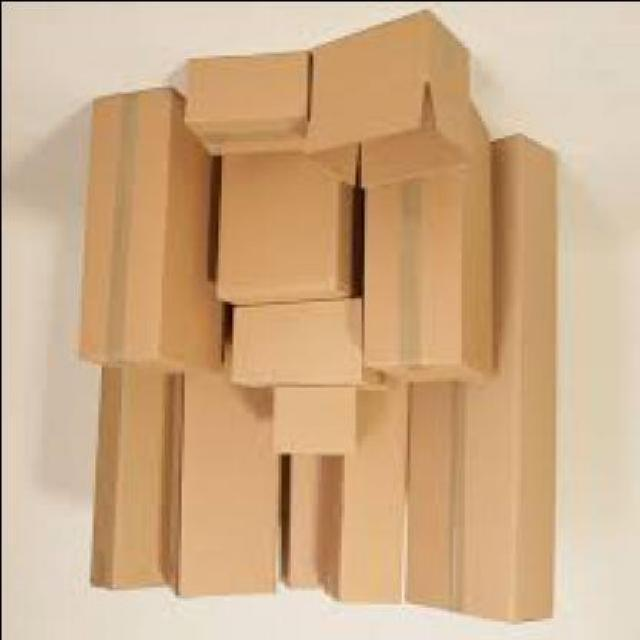box: (406, 140, 557, 626), (80, 90, 226, 376), (367, 103, 496, 386), (308, 13, 483, 190), (170, 334, 279, 597), (283, 379, 409, 606), (220, 137, 360, 309), (96, 366, 173, 594), (229, 300, 389, 392), (183, 55, 312, 160), (277, 389, 360, 457)
